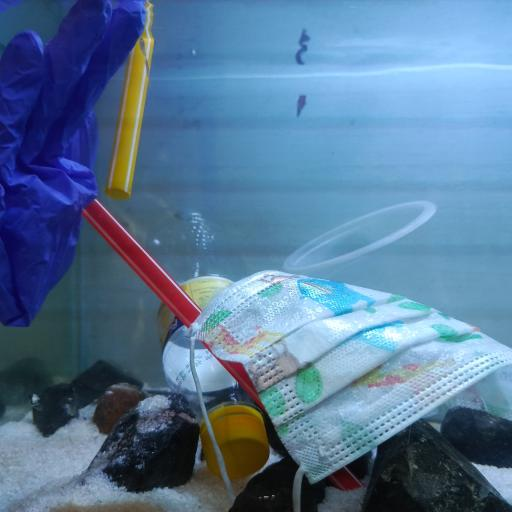glove: (1, 0, 148, 330)
mask: (188, 267, 512, 485)
plastic_bottle: (143, 206, 271, 482)
plastic_cup: (283, 197, 450, 317)
plastic_straw: (80, 199, 360, 490), (104, 29, 156, 204)
